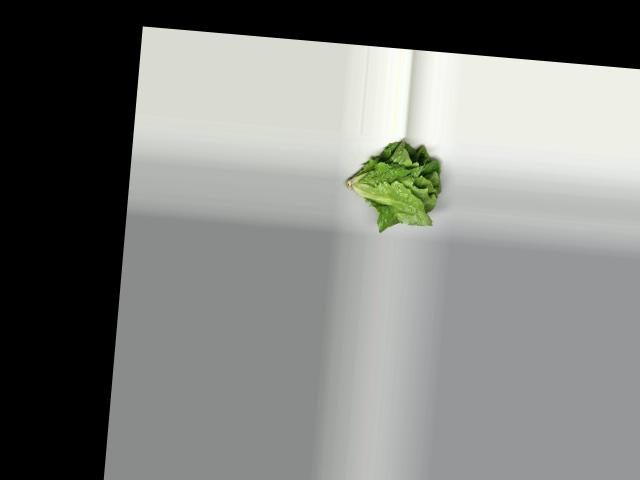lettuce: (334, 130, 449, 235)
